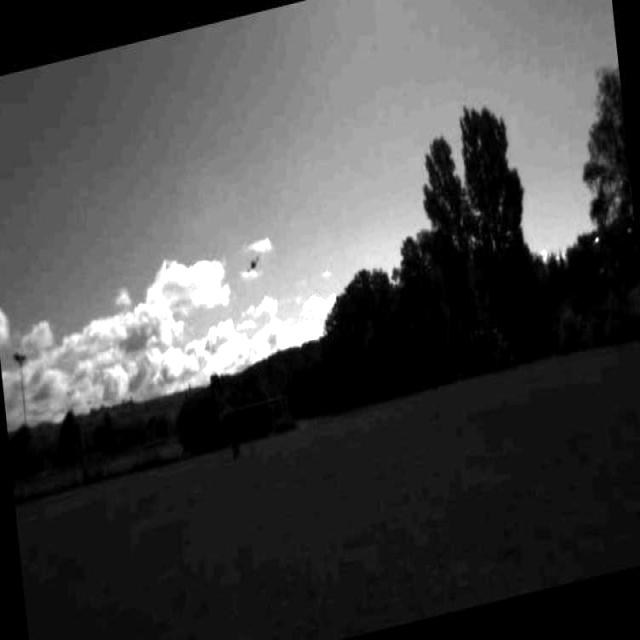drone: (245, 249, 264, 276)
